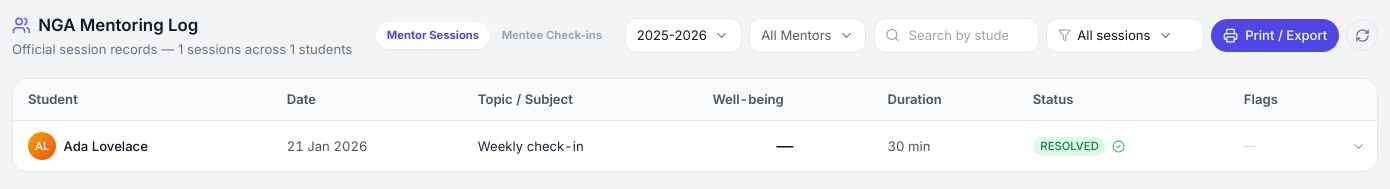
AdminMentoringLogView — Mentor Sessions / Mentee Check-ins toggle › switches to Mentee Check-ins and loads that data instead
The width and height of the screenshot is (1390, 189).
Click the button "Mentee Check-ins". click: click(552, 35)
box: [490, 22, 613, 49]
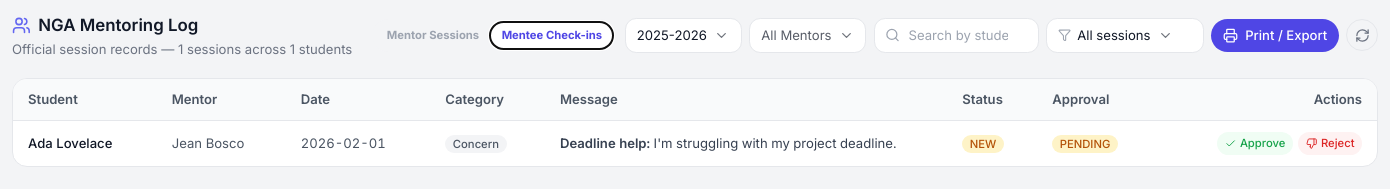
Check: the text "I'm struggling with my project deadline." is shown, box [654, 135, 896, 151]
